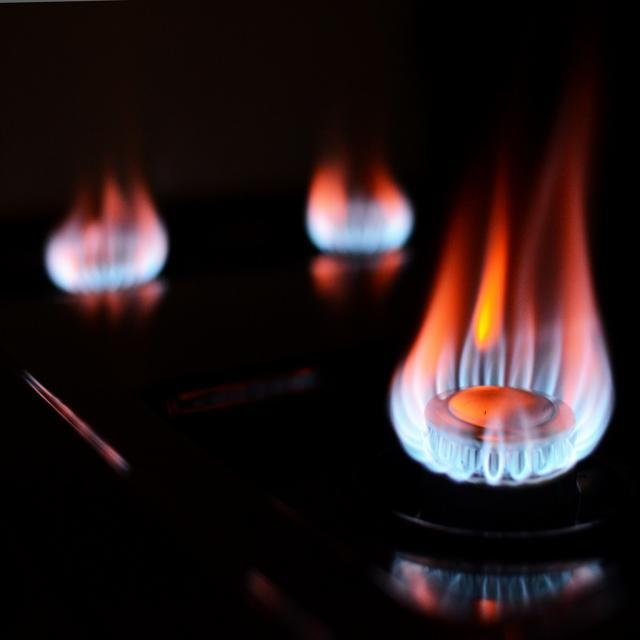Fire: (403, 318, 609, 462), (45, 217, 169, 277), (313, 174, 412, 248)
